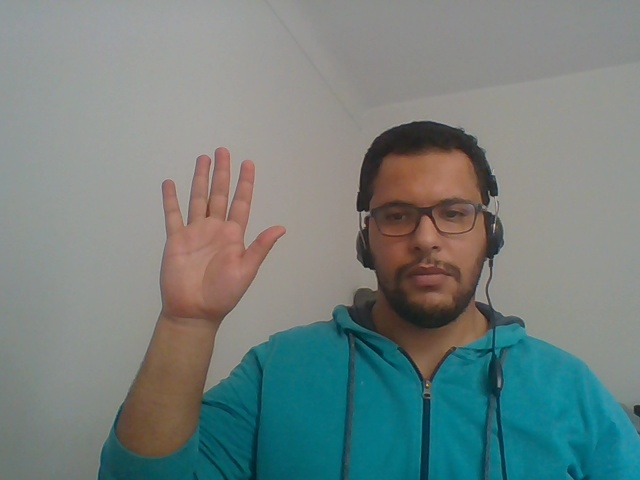hello: (126, 138, 292, 380)
